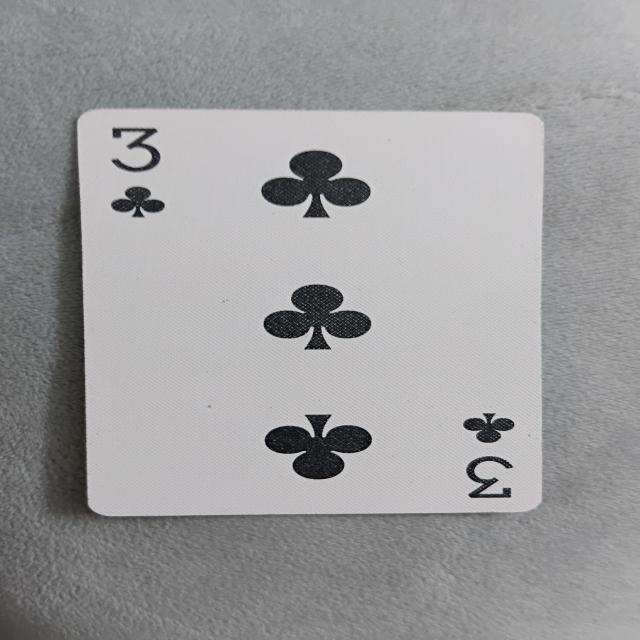3C: (78, 109, 544, 512)
